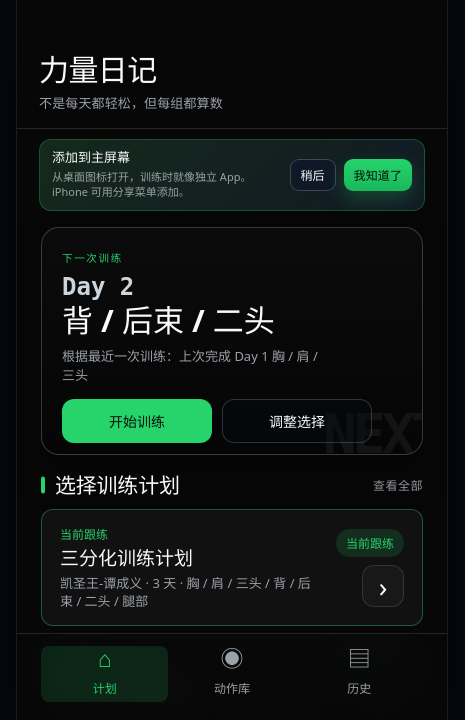
it: fitness PWA user flows › recommends the next workout while keeping the full plan entry available
This screenshot has width=465, height=720.
expect the text "下一次训练" is shown: met, box [62,251,123,265]
expect the text "Day 2" is shown: met, box [62,273,134,301]
Click the button with aria-label "开始推荐训练". click: (137, 421)
box: [62,399,212,443]
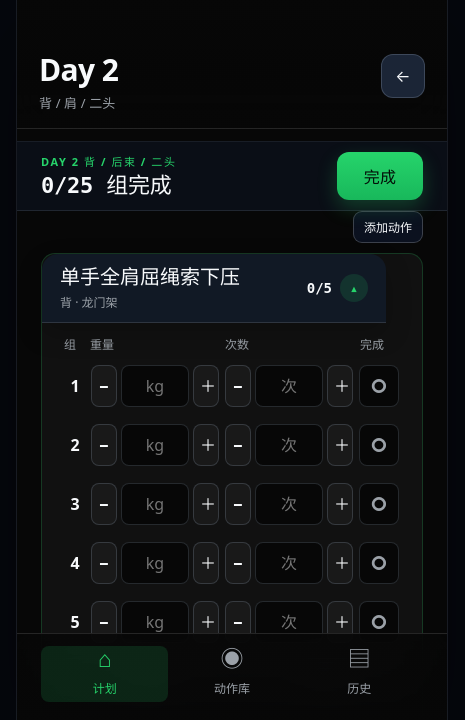
expect the heading "单手全肩屈绳索下压" is shown: met, box [60,265,240,289]
expect the heading "0/25 组完成" is shown: met, box [41,173,176,199]
